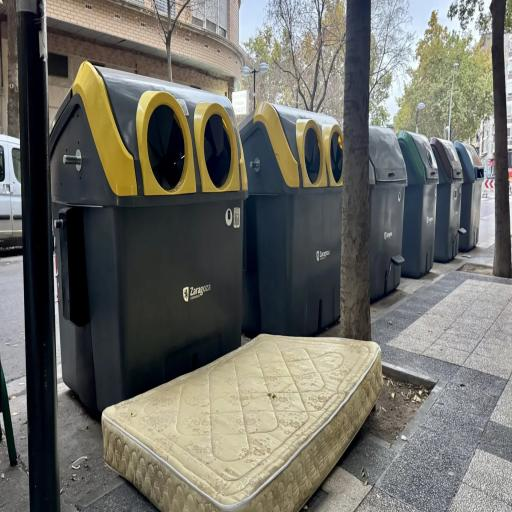Contenedor_Vacio: (49, 61, 248, 415)
